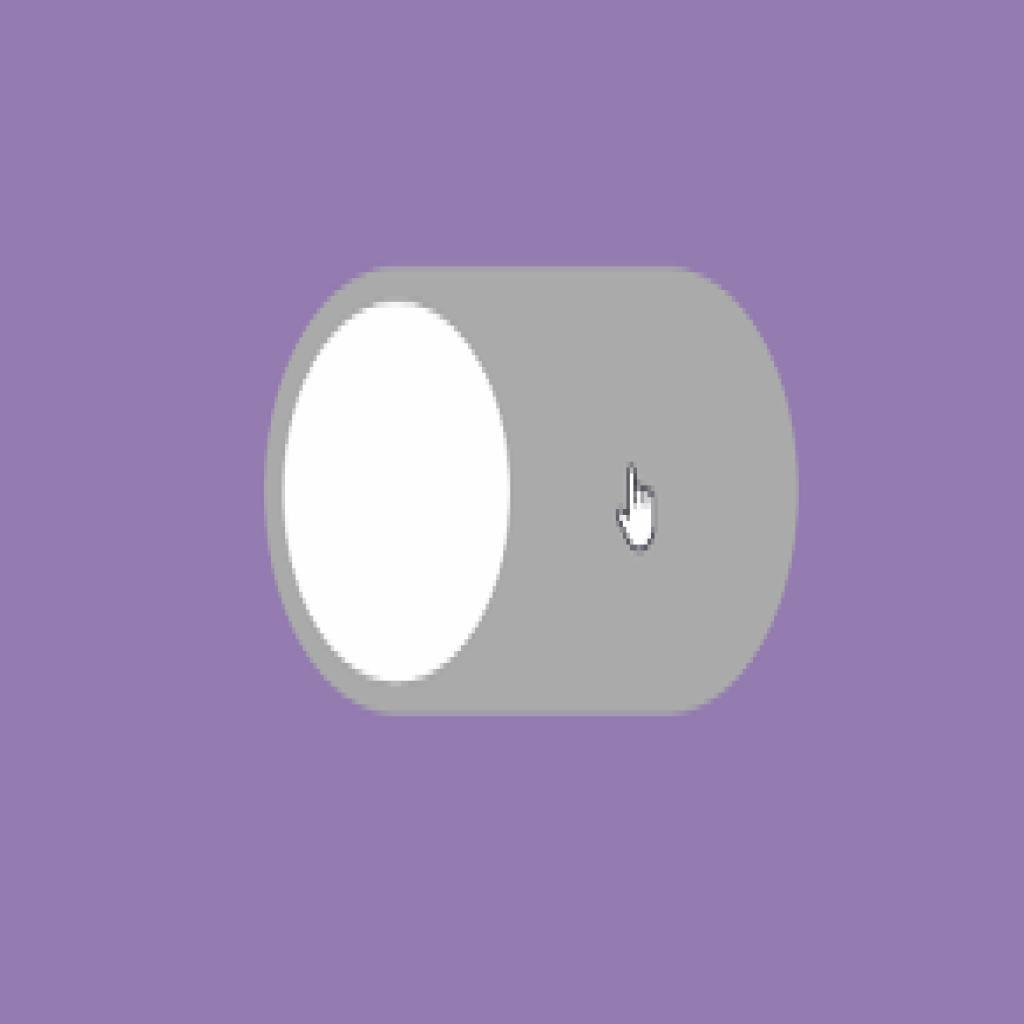switch: (251, 263, 801, 725)
